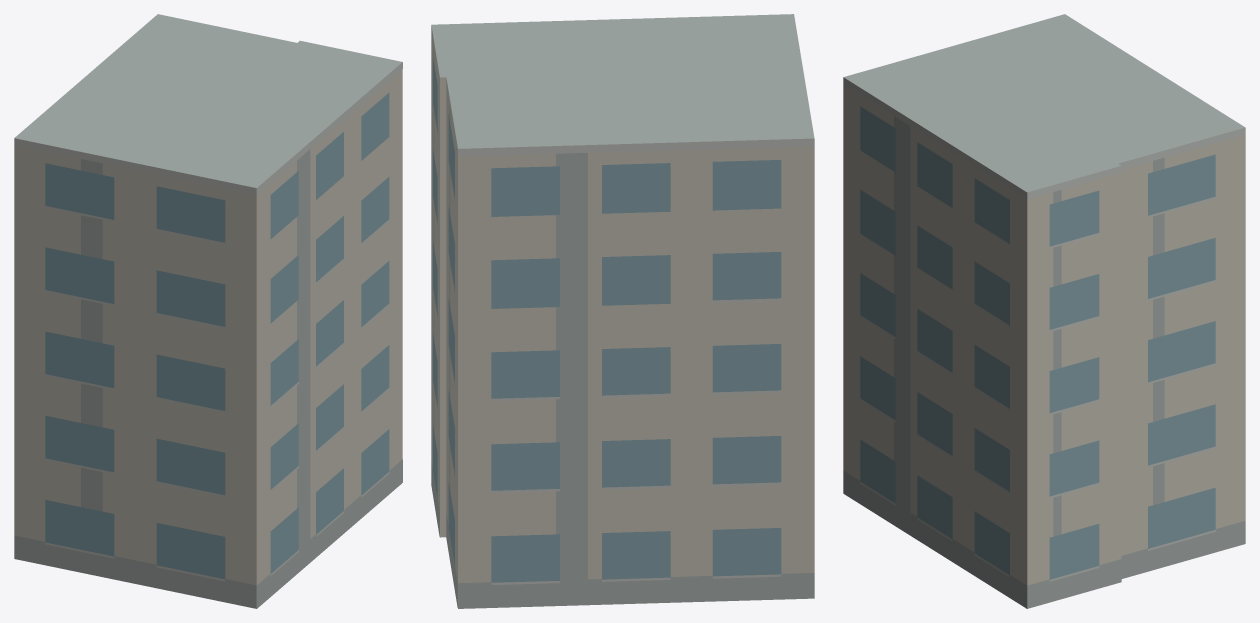
Rendered from residential-2a54fc7c-9d8f-4fdd-973f-2ae6c2f728c6.glb.
3 renders of one model, left to right at view 1: azimuth 30°, elevation 25°; view 2: azimuth 150°, elevation 25°; view 3: azimuth 270°, elevation 25°, orthographic. The views are drawn at different scales.
Parts seen in each view (by area): view 1: residential-2a54fc7c-9d8f-4fdd-973f-2ae6c2f728c6.tmp; view 2: residential-2a54fc7c-9d8f-4fdd-973f-2ae6c2f728c6.tmp; view 3: residential-2a54fc7c-9d8f-4fdd-973f-2ae6c2f728c6.tmp.
Boxes of the visible parts, left/top/right/bottom form: residential-2a54fc7c-9d8f-4fdd-973f-2ae6c2f728c6.tmp: left=14, top=14, right=402, bottom=608; residential-2a54fc7c-9d8f-4fdd-973f-2ae6c2f728c6.tmp: left=431, top=14, right=814, bottom=608; residential-2a54fc7c-9d8f-4fdd-973f-2ae6c2f728c6.tmp: left=843, top=14, right=1245, bottom=608.
Bounding box in the file's own units: 13.33 × 14.5 × 12.7.
